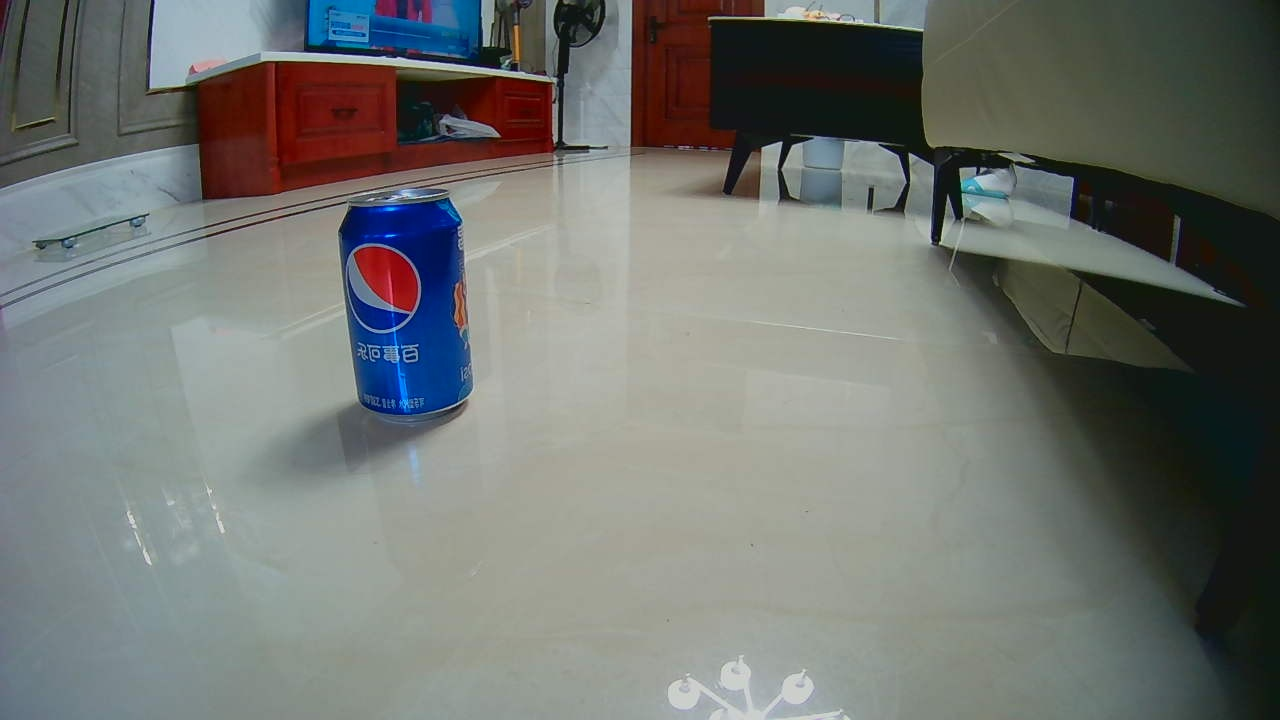pessi: (344, 192, 473, 416)
